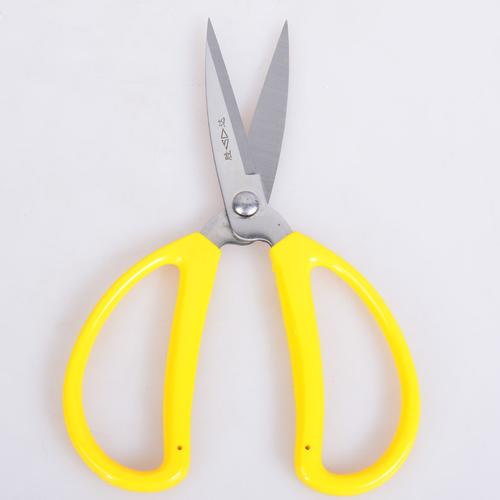scissor: (63, 18, 422, 492)
